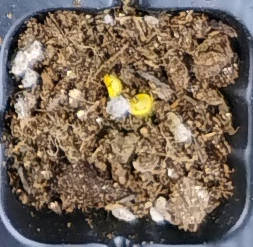chilli seed: (129, 93, 152, 115), (102, 73, 122, 98)
